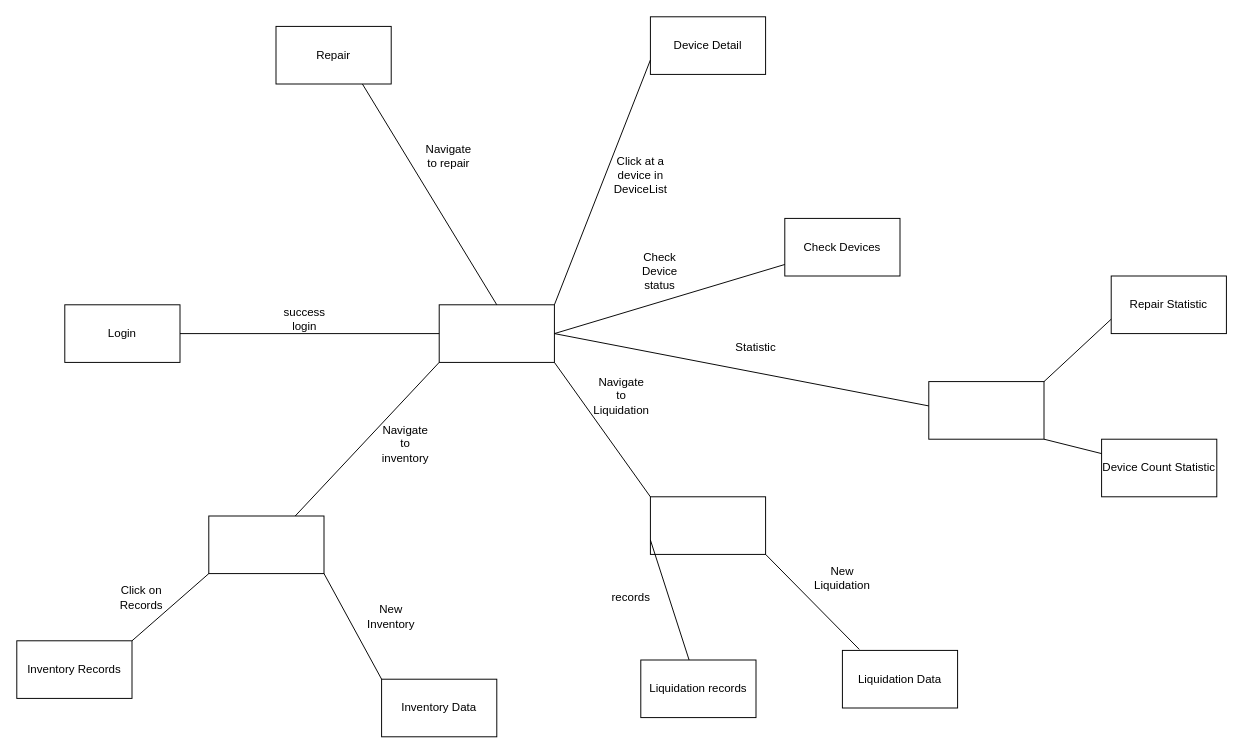
Image size: 1243x754. Some labels were removed from this diagram. Here are the shapes that lost their labels. From the top down, the centre of each, then its label:
the point at 496,333: DeviceList
the point at 986,410: Statistic Screen
the point at 266,544: Inventory
the point at 707,525: Liquidation
